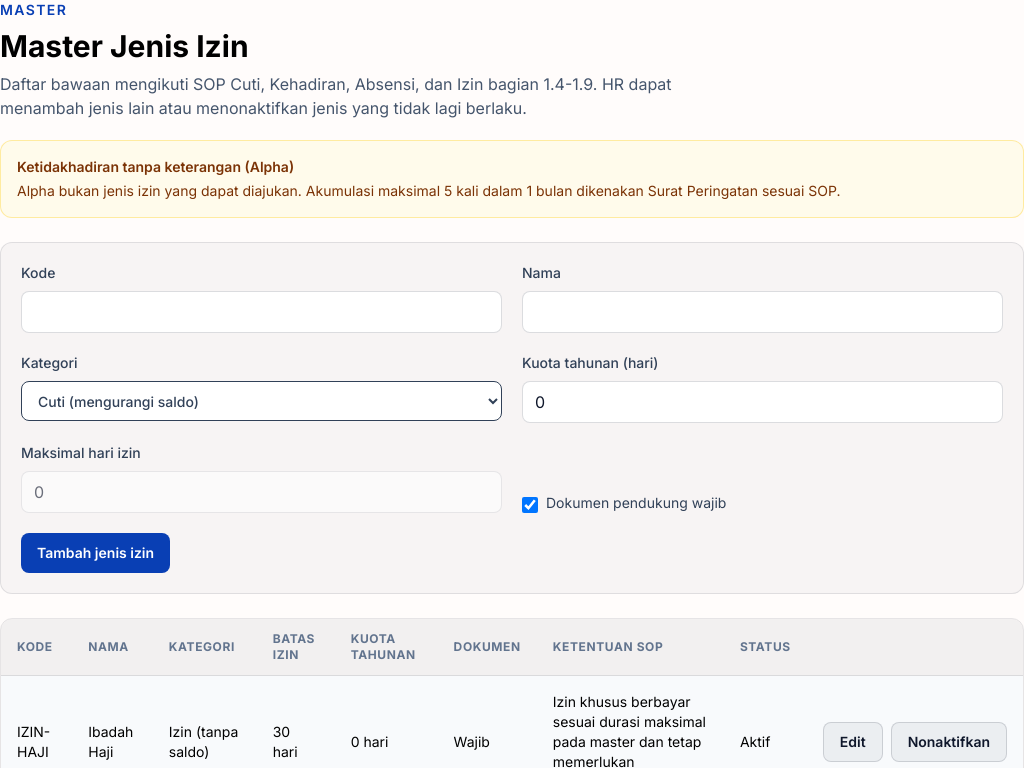
Test case: LeaveTypesPage › submits edited fields without changing code or category
Click the button named "Edit Ibadah Haji": (853, 742) 823,722 -> 883,762
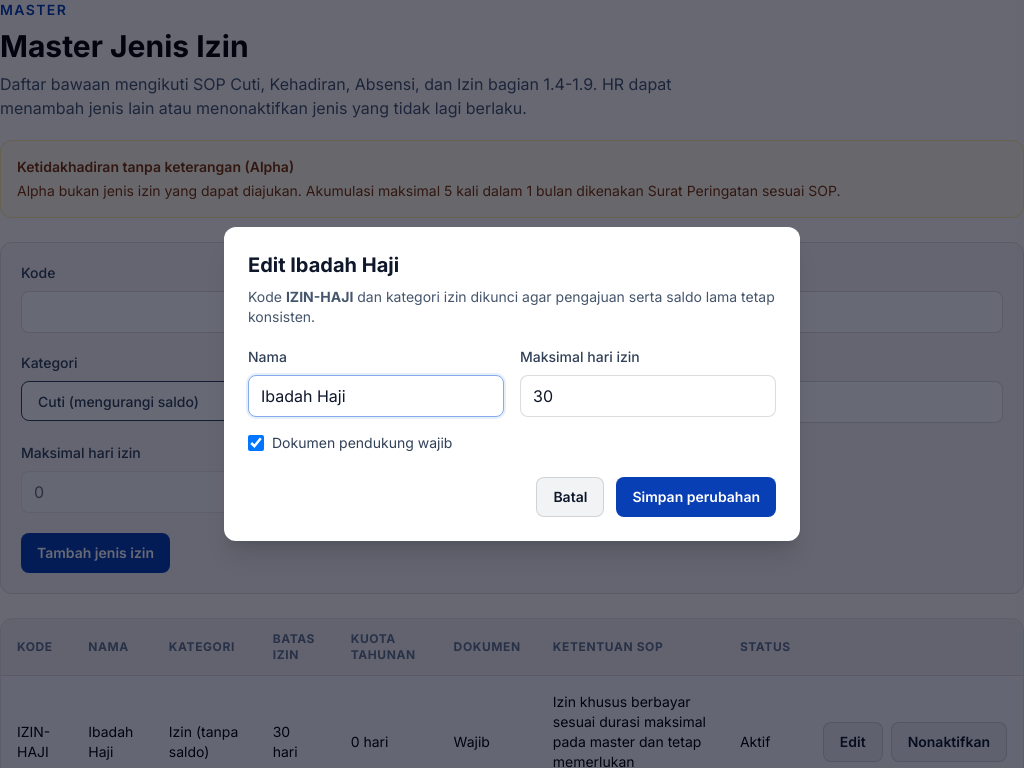
Replace the text in the number field labelled "Maksimal hari izin" with "25": (648, 396) 520,375 -> 776,417
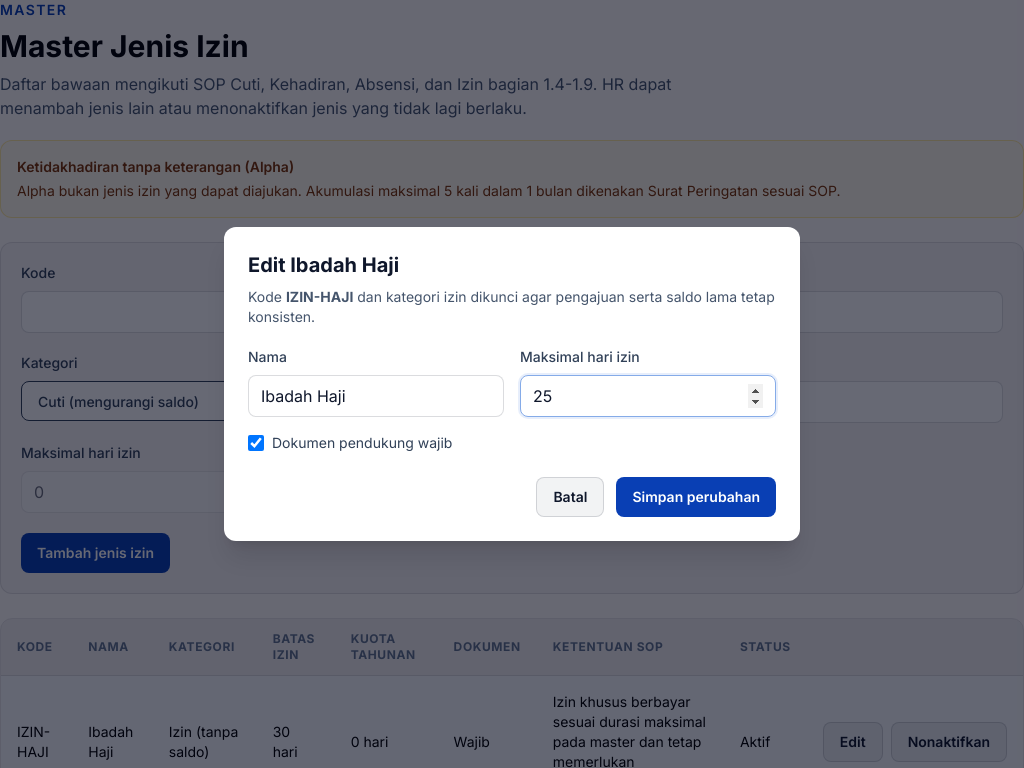
Click the checkbox labelled "Dokumen pendukung wajib": (256, 443) 248,435 -> 264,451
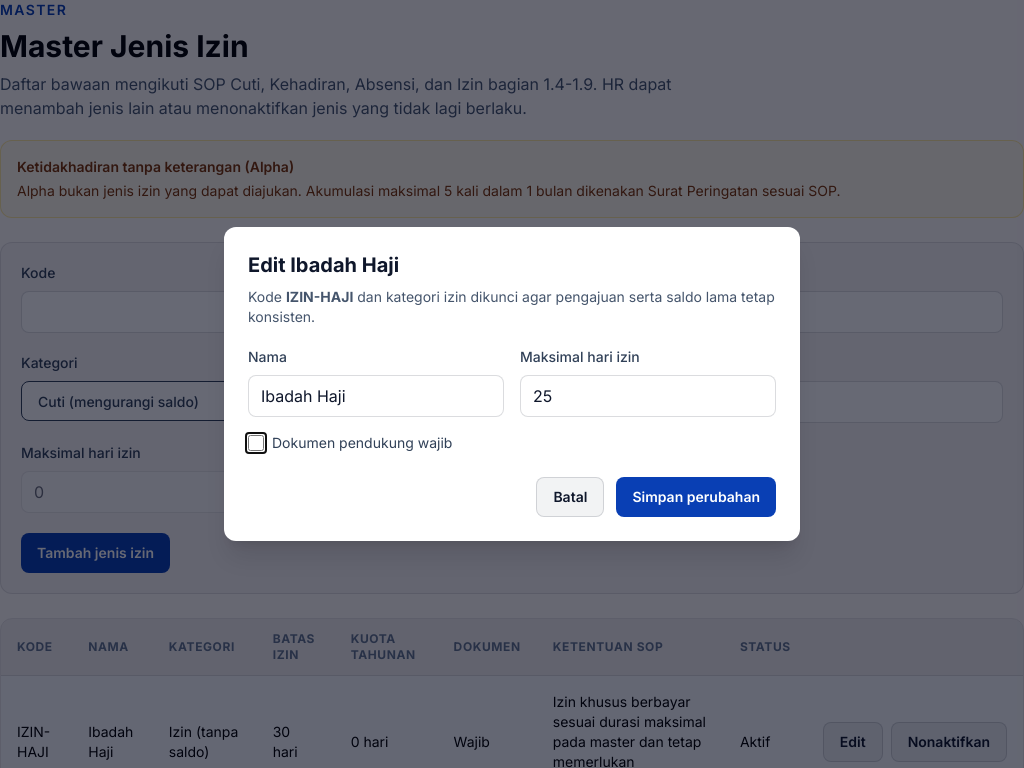
Click the button "Simpan perubahan": (696, 497) 616,477 -> 776,517
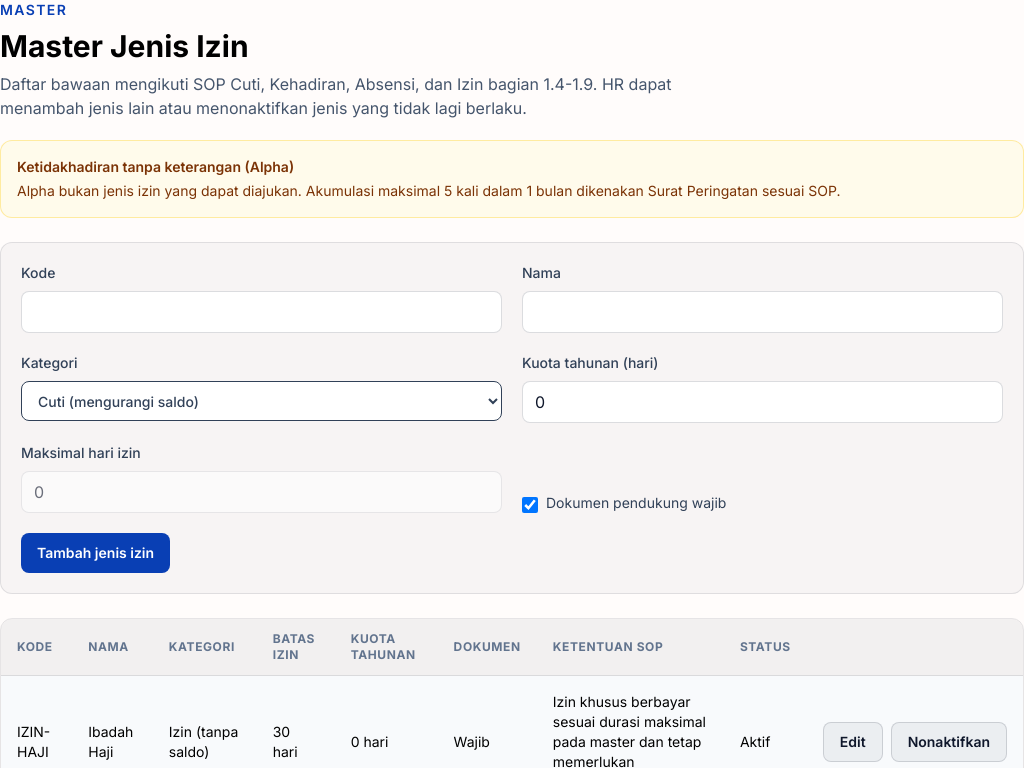
Expected: the dialog is gone
